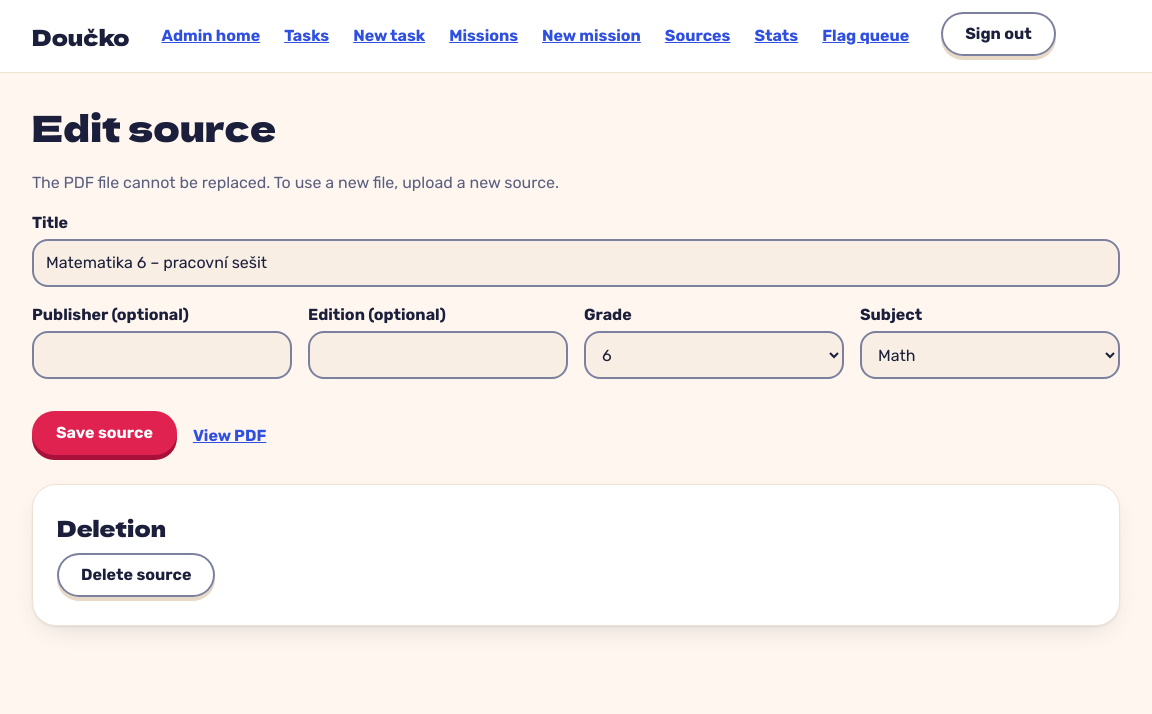
source metadata edit (FR-55) › shows the grade lock with its reason and the referencing tasks (Source grade locked while referenced)
Check: the heading "Edit source" is shown, box [32,100,276,152]
Check: the field showing "Matematika 6 – pracovní sešit" is shown, box [32,239,1120,287]
Select "7" in the dropdown labelled "Grade": {"x": 714, "y": 355} [584,331,844,379]
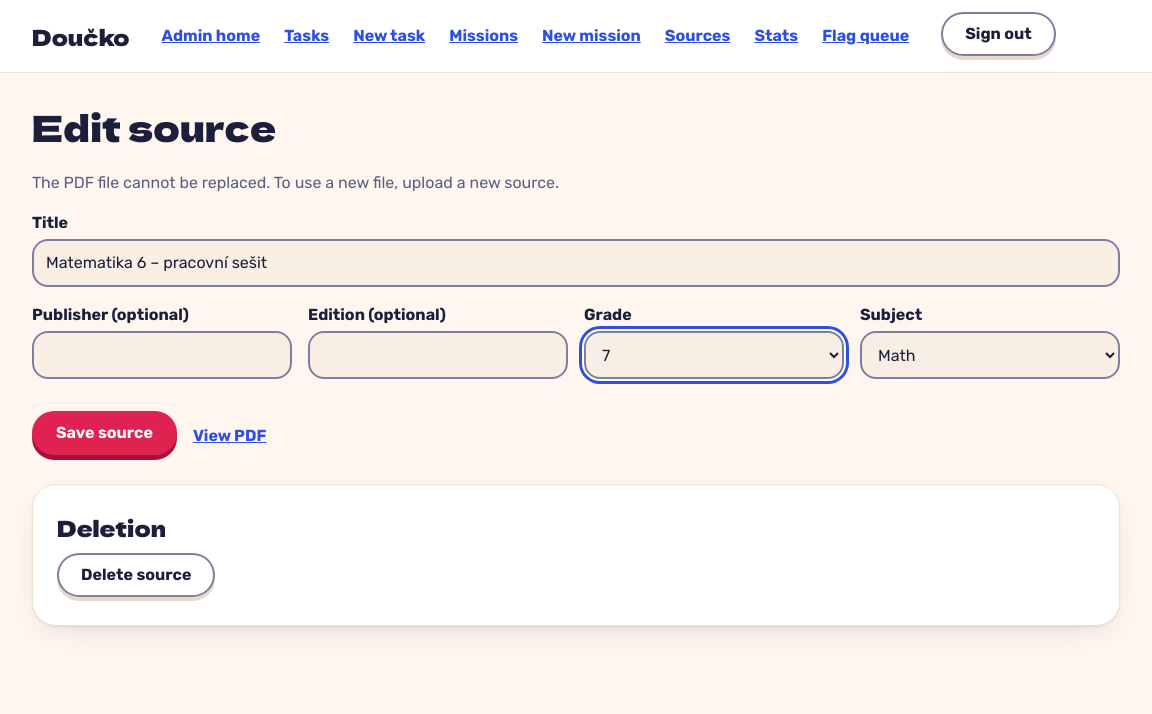
Click the button "Save source": {"x": 104, "y": 433} [32,411,177,455]
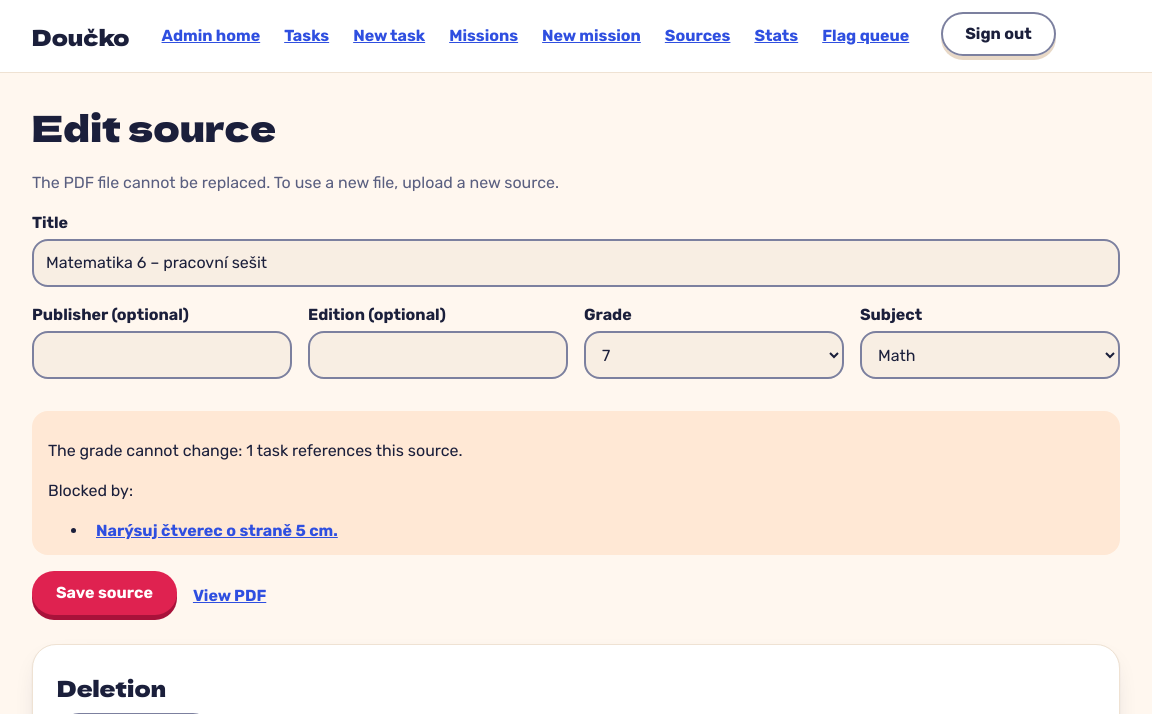
Check: the message shows "The grade cannot change: 1 task references this source.", box [48,441,462,460]
